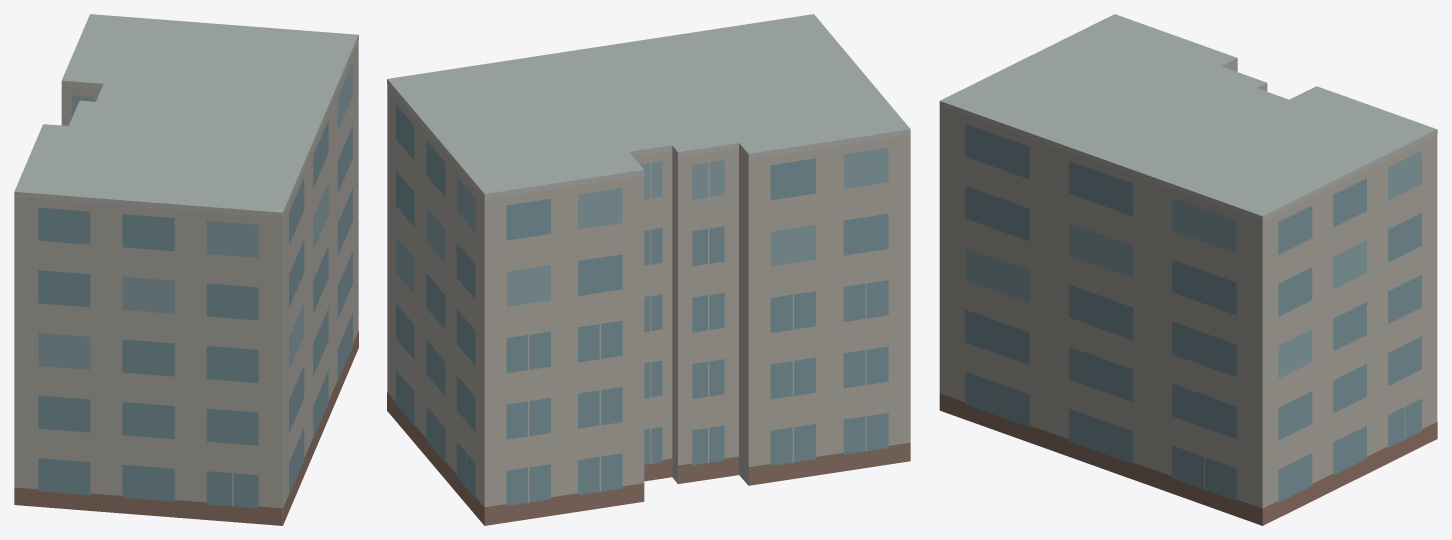
File: survey-upis-32693099.glb
3 views of the same model, side by side, from view 1: azimuth 30°, elevation 25°; view 2: azimuth 150°, elevation 25°; view 3: azimuth 270°, elevation 25° (orthographic). The views are drawn at different scales.
Parts seen in each view (by area): view 1: survey-upis-32693099.tmp; view 2: survey-upis-32693099.tmp; view 3: survey-upis-32693099.tmp.
Boxes of the visible parts, x1=… form: survey-upis-32693099.tmp: x1=14, y1=14, x2=358, y2=525; survey-upis-32693099.tmp: x1=387, y1=14, x2=910, y2=525; survey-upis-32693099.tmp: x1=939, y1=14, x2=1437, y2=525.
Bounding box in the file's own units: 20.6 × 14.7 × 21.43.
